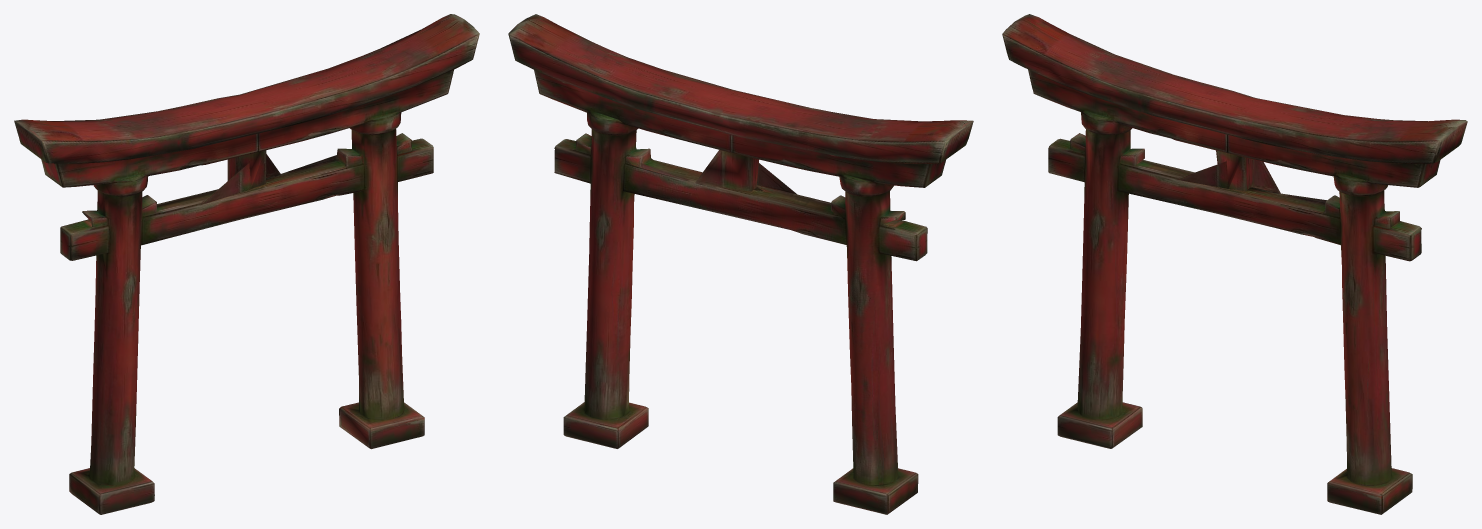
Rendered from torii.glb.
3 views of the same model, side by side, from view 1: azimuth 30°, elevation 25°; view 2: azimuth 150°, elevation 25°; view 3: azimuth 330°, elevation 25° (orthographic).
Visible parts, largest first — view 1: Mesh_0; view 2: Mesh_0; view 3: Mesh_0.
Part boxes in pixels (box(x1,y1,x2,y2)): Mesh_0: box(14, 14, 479, 514); Mesh_0: box(508, 14, 973, 514); Mesh_0: box(1002, 14, 1467, 514).
Size of the model in its own units: 1.9 by 1.62 by 0.2325.
Materials: 1 (1 with a texture image).
